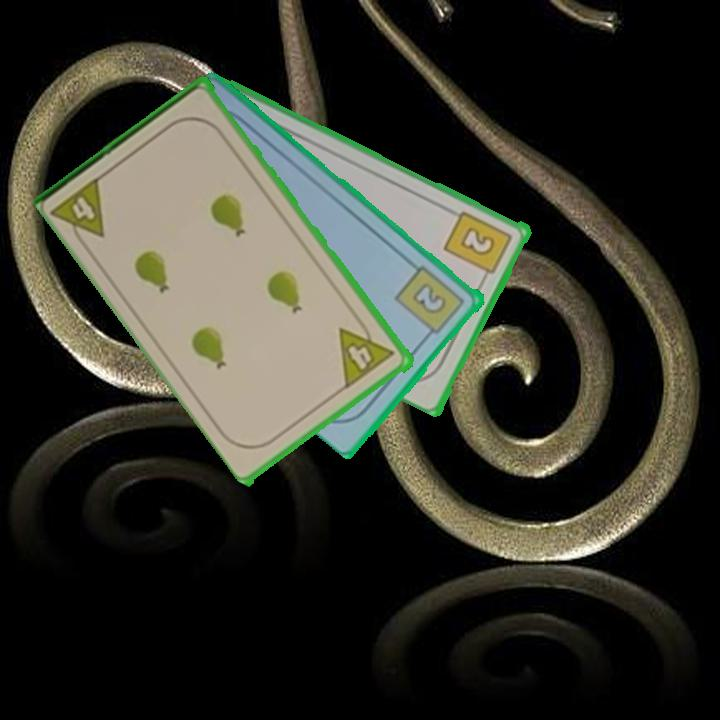2b: (392, 262, 469, 343), (441, 207, 516, 285)
4p: (49, 172, 109, 253), (335, 314, 398, 391)
